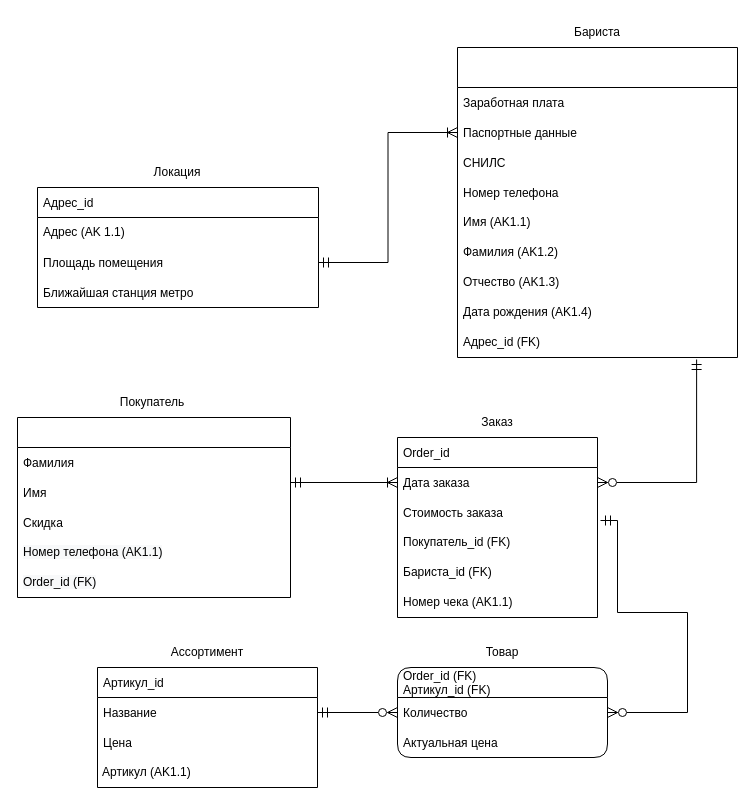
Image size: 755x805. Some labels were removed from this diagram. Here are the shapes that lost their labels. From the top down, the box of each, then its label:
(456, 46, 738, 358): Бариста_id
(16, 416, 290, 598): Покупатель_id
